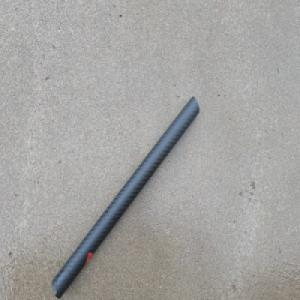LuggagePart: (51, 93, 199, 299)
